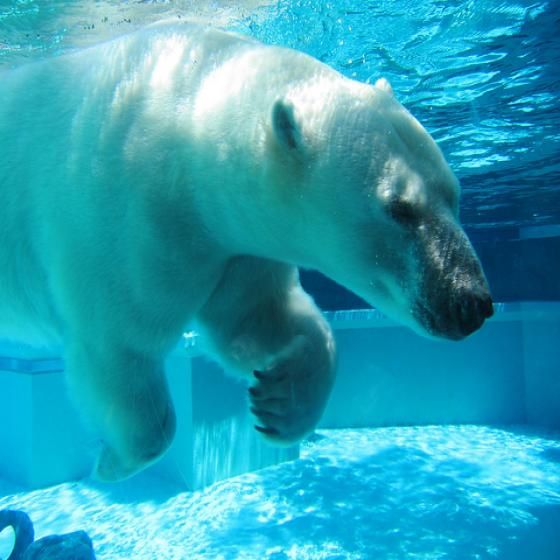bear: (1, 20, 497, 484)
